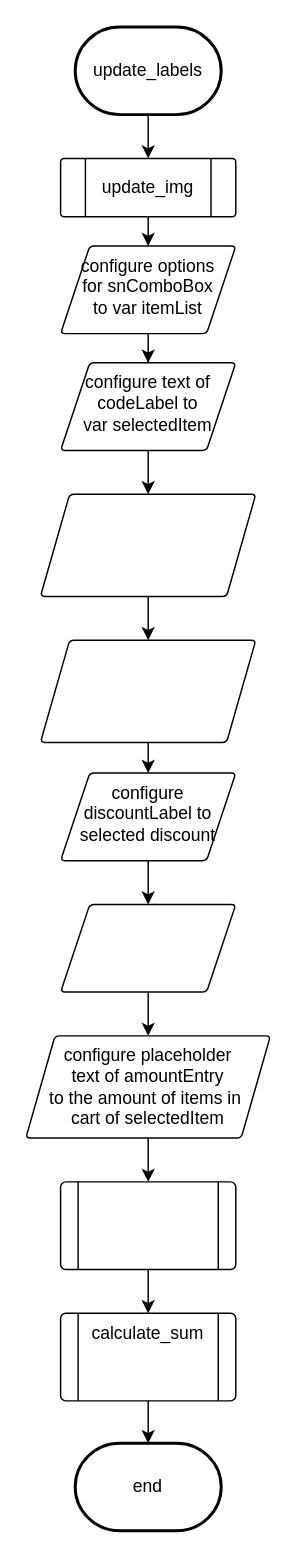
Some shapes in this 296 by 1556 pixel diagram are drawn without their labels. Here are the shapes that lost their labels. From the top down, the centre of each, then its label:
point 147,544: set the value in snComboBox to the name of selectedItem
point 147,690: configure itemCountLabel to number of items in cart of selectedItem
point 147,947: configure priceLabel to price of selectedItem
point 147,1224: show_cart
